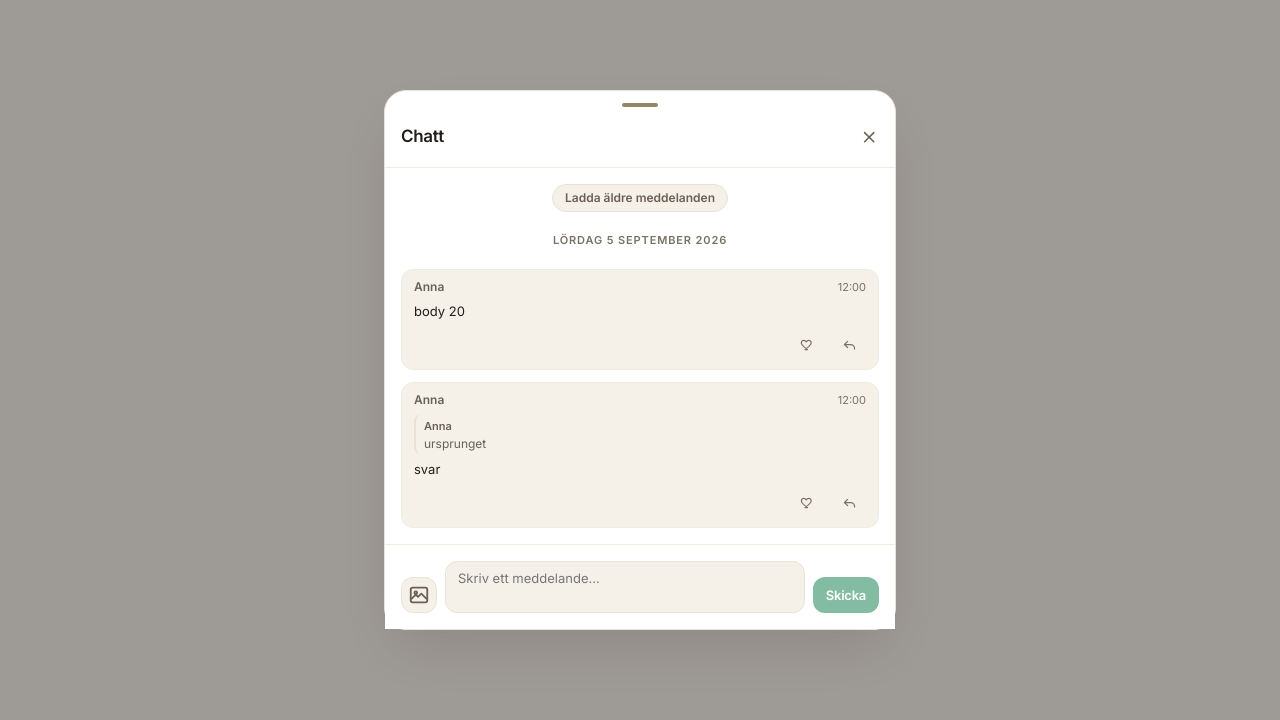
Test: ChatPanel — jump to original from a reply quote (Task H) › stops at the page cap and shows a one-line notice when the target is never found
The width and height of the screenshot is (1280, 720).
Click the button with aria-label "Svar på".
click(455, 443)  # box [414,414,866,455]
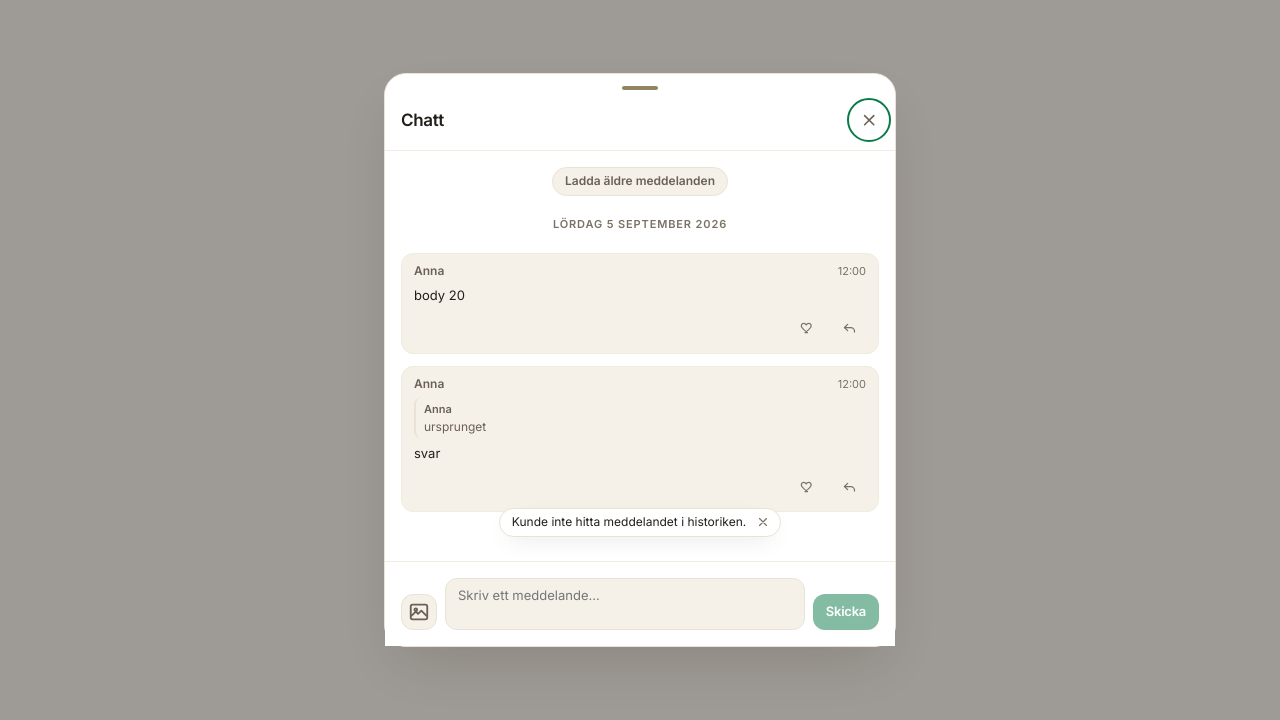
Now the text "Kunde inte hitta meddelandet i historiken." is shown, box [512,513,746,532]
